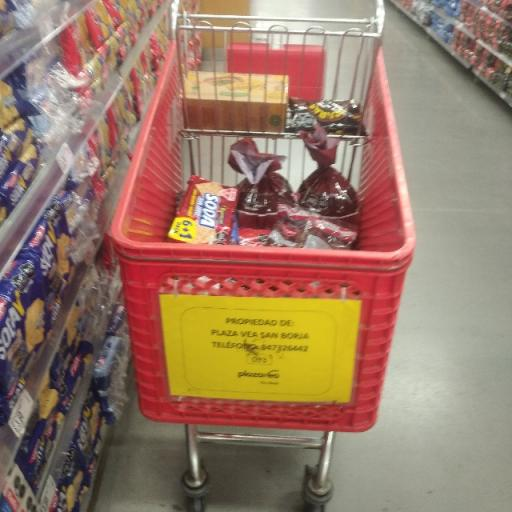shopping_cart: (106, 0, 420, 512)
